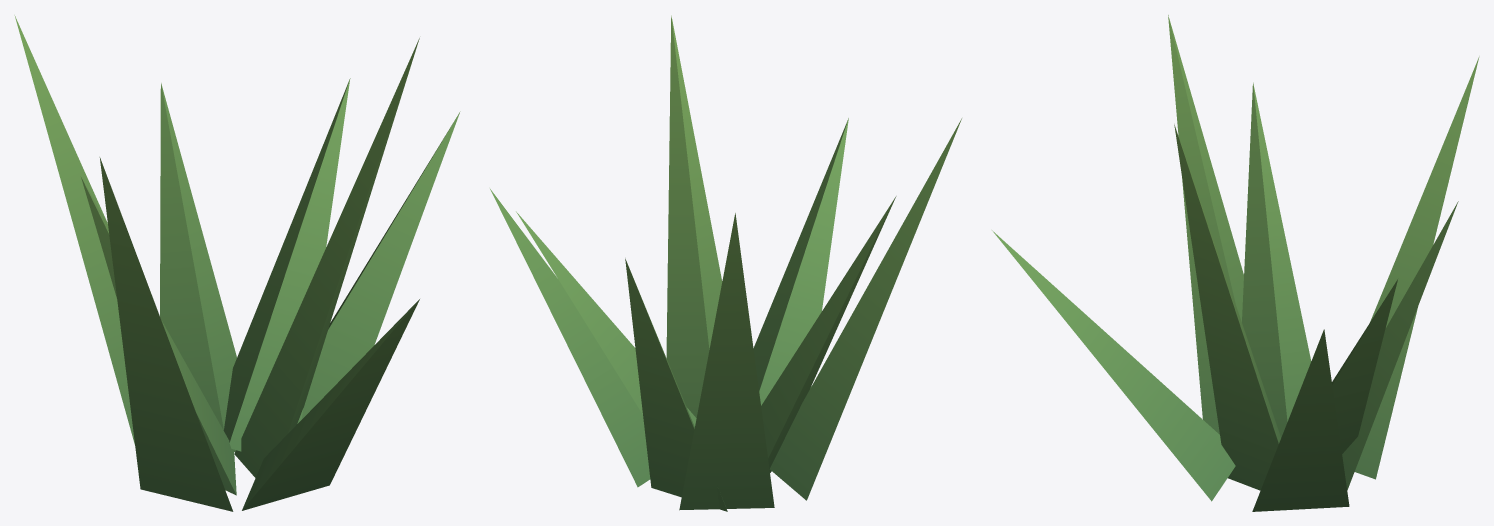
Rendered from grass_tuft.glb.
3 renders of one model, left to right at view 1: azimuth 30°, elevation 25°; view 2: azimuth 150°, elevation 25°; view 3: azimuth 270°, elevation 25°, orthographic. The views are drawn at different scales.
Visible parts, largest first — view 1: grass_tuft; view 2: grass_tuft; view 3: grass_tuft.
Part boxes in pixels (left/top/right/bottom): grass_tuft: left=14, top=15, right=460, bottom=511; grass_tuft: left=490, top=15, right=961, bottom=511; grass_tuft: left=992, top=15, right=1479, bottom=511.
Bounding box in the file's own units: 0.4329 × 0.4145 × 0.4483.
